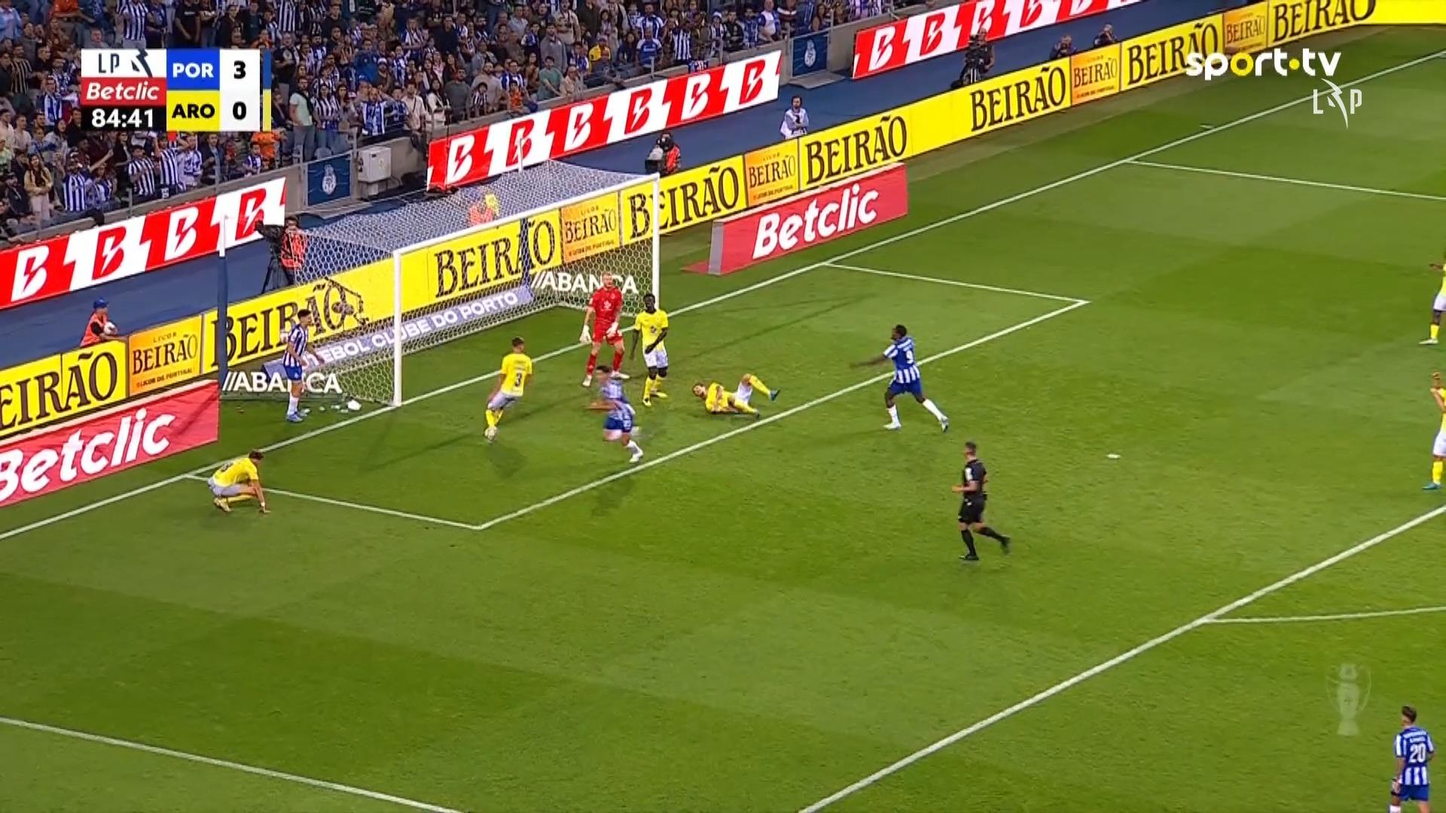goalkeeper: (578, 271, 629, 387)
player: (848, 323, 950, 433), (584, 363, 644, 463), (481, 336, 533, 443), (280, 308, 326, 422), (1387, 704, 1435, 811), (630, 291, 670, 407), (206, 448, 270, 514), (691, 372, 780, 416), (1421, 370, 1444, 490), (1417, 259, 1444, 345)
referee: (950, 440, 1011, 561)
